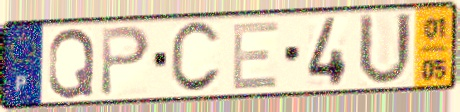4: (304, 15, 350, 89)
C: (168, 19, 224, 97)
E: (230, 18, 281, 92)
P: (98, 24, 153, 99)
Q: (46, 26, 98, 101)
U: (355, 10, 415, 88)
